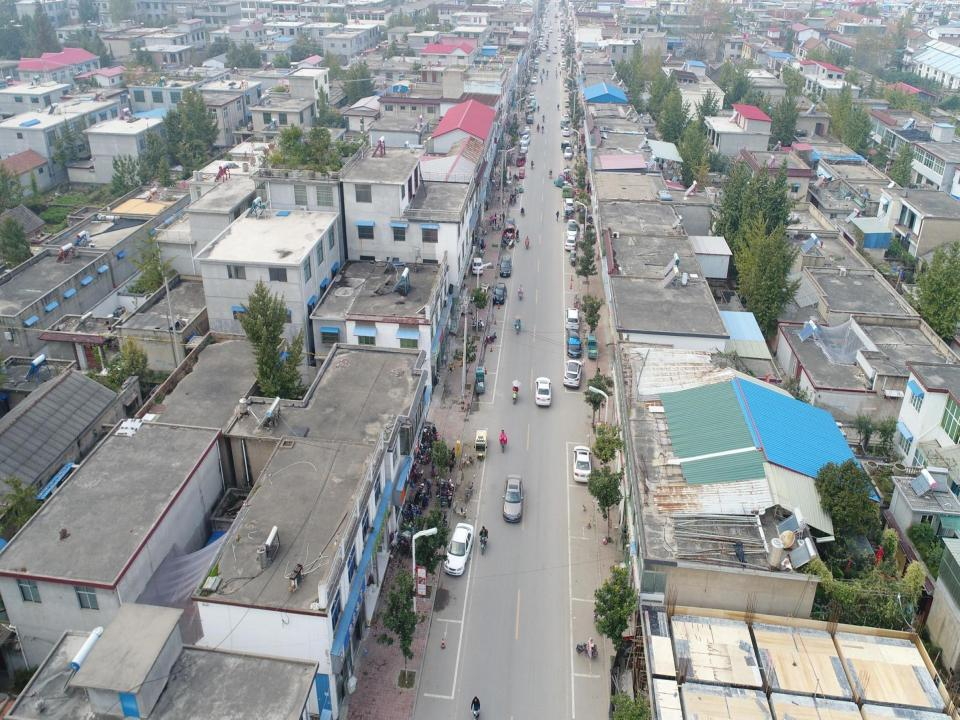car: (444, 522, 474, 575), (502, 472, 524, 524), (572, 444, 593, 482), (562, 359, 582, 389), (534, 375, 552, 406), (564, 329, 582, 358), (564, 307, 581, 331), (492, 282, 507, 306), (498, 253, 511, 277), (470, 256, 484, 274), (566, 218, 577, 238), (565, 235, 578, 251), (505, 216, 516, 231), (563, 197, 574, 212), (520, 134, 530, 146), (564, 146, 572, 161), (518, 149, 526, 163), (520, 142, 528, 153), (561, 126, 569, 137), (528, 92, 536, 102), (560, 120, 568, 130), (562, 113, 570, 123), (527, 115, 534, 125), (531, 76, 537, 84), (534, 57, 540, 65), (561, 63, 566, 70), (560, 60, 565, 66), (552, 48, 557, 54), (560, 46, 565, 52), (560, 33, 565, 39), (534, 64, 538, 70), (542, 46, 546, 52), (558, 36, 562, 42), (560, 48, 564, 54), (549, 26, 553, 32), (539, 41, 543, 46), (541, 31, 544, 36)
van: (560, 38, 565, 45), (539, 37, 543, 45)
